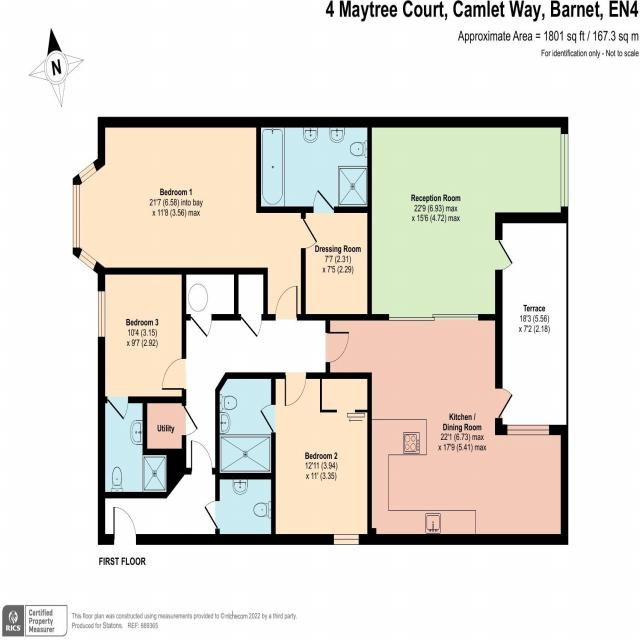DOOR: (112, 506, 137, 545), (161, 357, 187, 391), (325, 330, 350, 364), (190, 439, 214, 474), (275, 285, 298, 321), (284, 372, 307, 407), (495, 237, 515, 272), (494, 386, 514, 420), (300, 217, 318, 249), (312, 188, 335, 213), (106, 396, 129, 421), (259, 403, 276, 434), (203, 499, 220, 530)
ROOM: (325, 314, 569, 545), (72, 116, 319, 321), (367, 116, 569, 321), (260, 372, 372, 545), (97, 267, 187, 421)
WINDOW: (560, 132, 569, 209), (72, 183, 81, 249), (506, 423, 550, 436), (76, 160, 98, 185), (78, 247, 98, 272), (97, 290, 106, 339), (333, 533, 359, 546)
